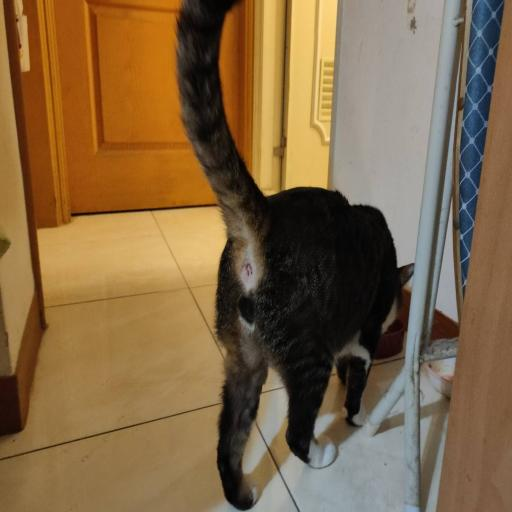cat: (212, 168, 399, 458)
